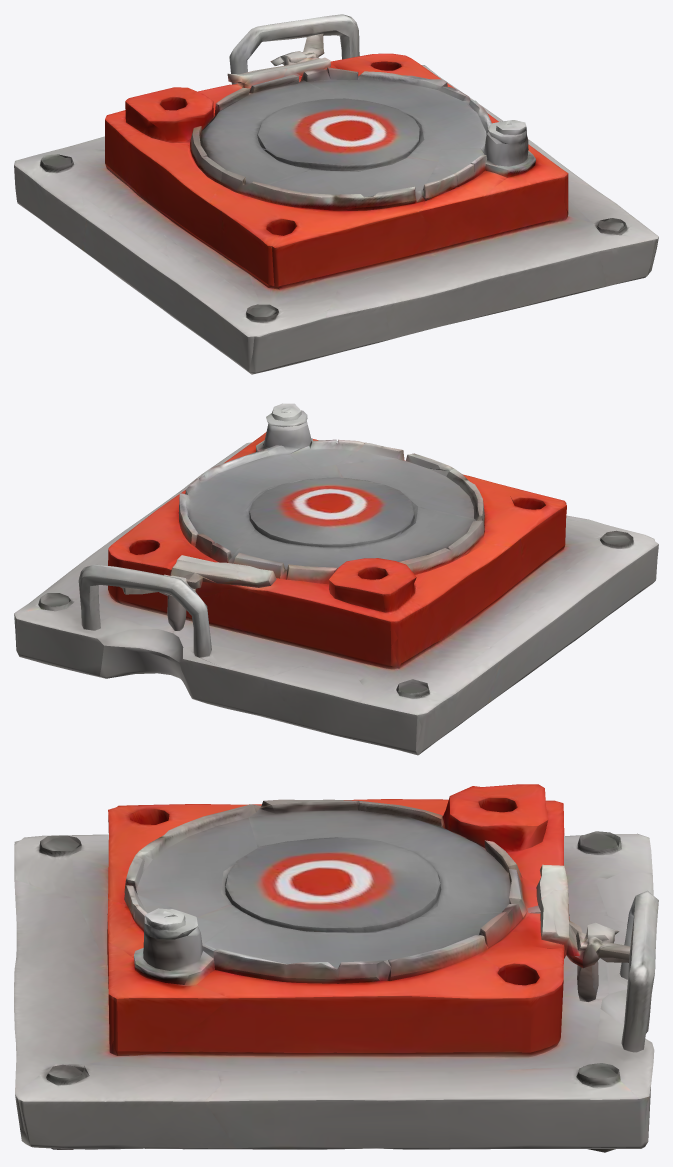
Rendered from m2ConveyorTurntable.glb.
The picture shows the model from 3 angles, top to bottom: view 1: azimuth 30°, elevation 25°; view 2: azimuth 150°, elevation 25°; view 3: azimuth 270°, elevation 25°; orthographic projection. The views are drawn at different scales.
Parts seen in each view (by area): view 1: model; view 2: model; view 3: model.
Boxes of the visible parts, left/top/right/bottom form: model: left=14, top=14, right=658, bottom=374; model: left=14, top=403, right=658, bottom=755; model: left=14, top=784, right=658, bottom=1152.
Bounding box in the file's own units: 1.86 × 0.6139 × 1.9.
1 material, 1 textured.
